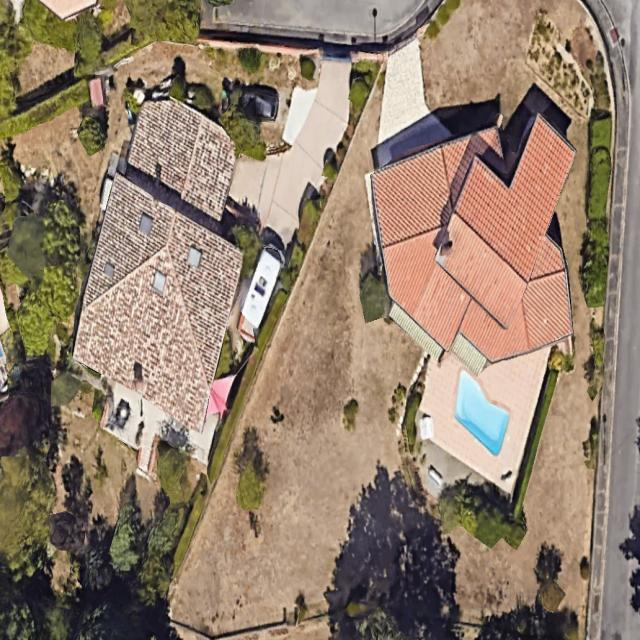maison: (59, 90, 275, 432), (367, 113, 579, 378)
